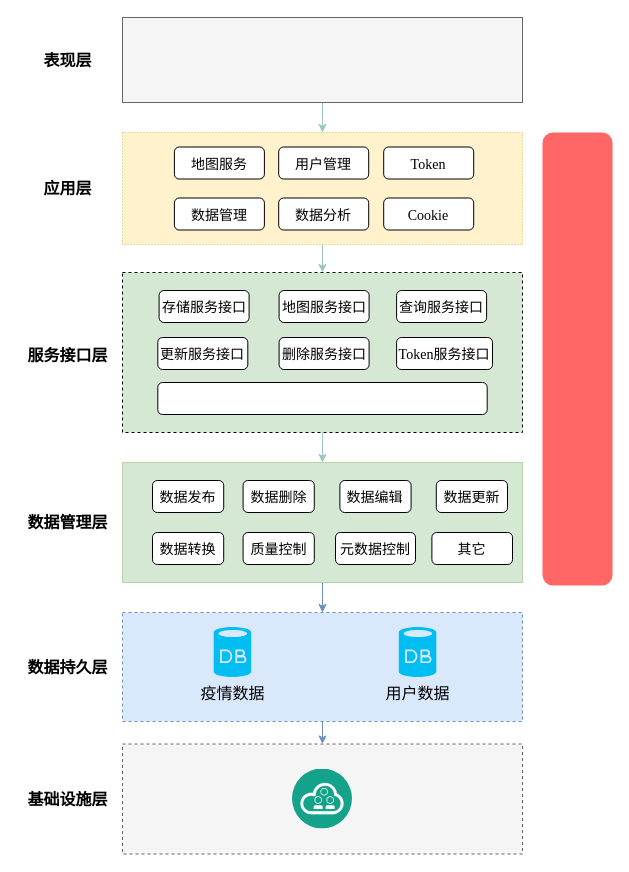
The diagram is 629 pixels wide and 872 high, and some of its shapes have lost their labels. The centre of each missing label's shape, as x and y in pixels:
"云平台" belongs at point (322, 798).
"数据与信息服务引擎" belongs at point (322, 398).
"新冠疫情数据可视化与管理平台" belongs at point (322, 59).
"权 限 控 制" belongs at point (577, 358).
